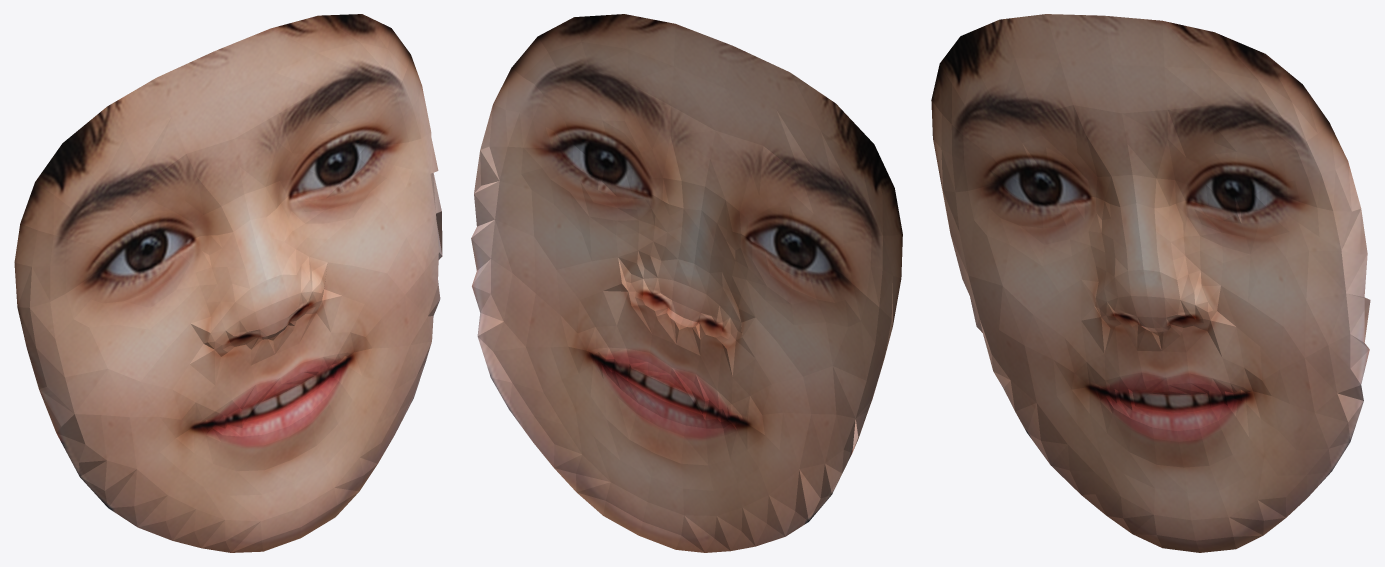
The model's file is adam_face_surface.glb.
3 views of the same model, side by side, from view 1: azimuth 30°, elevation 25°; view 2: azimuth 150°, elevation 25°; view 3: azimuth 330°, elevation 25° (orthographic).
Visible parts, largest first — view 1: geometry_0; view 2: geometry_0; view 3: geometry_0.
Part boxes in pixels (<box>): geometry_0: <box>14,14,442,552</box>; geometry_0: <box>471,14,902,552</box>; geometry_0: <box>931,14,1370,552</box>.
Bounding box in the file's own units: 0.46 × 0.54 × 0.0529.
1 material, 1 textured.
